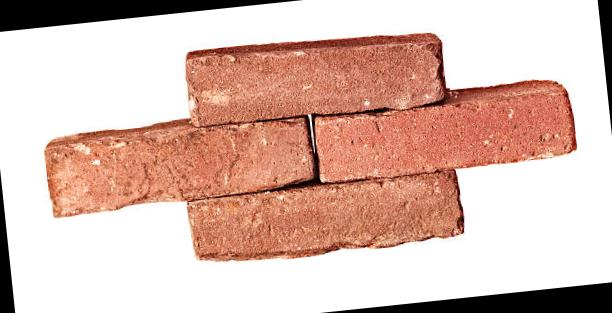brick: (187, 170, 467, 268), (44, 116, 315, 217), (185, 31, 447, 130), (314, 89, 578, 183)
